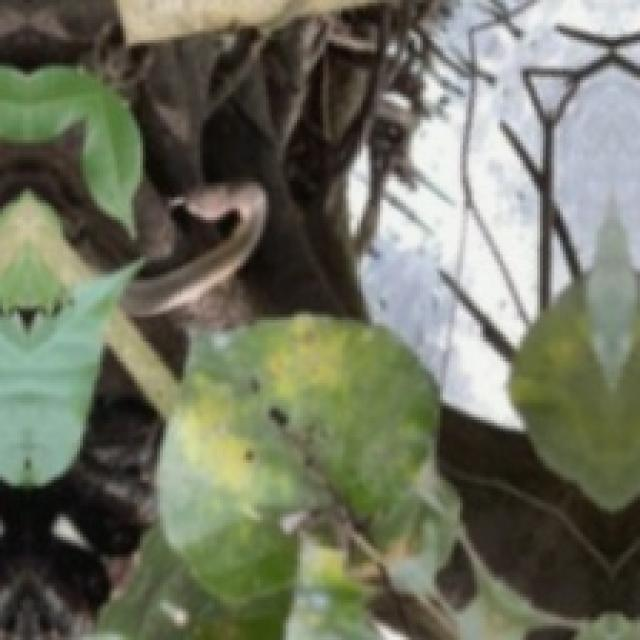king cobra: (0, 0, 429, 637), (263, 323, 434, 546), (123, 531, 369, 637)
